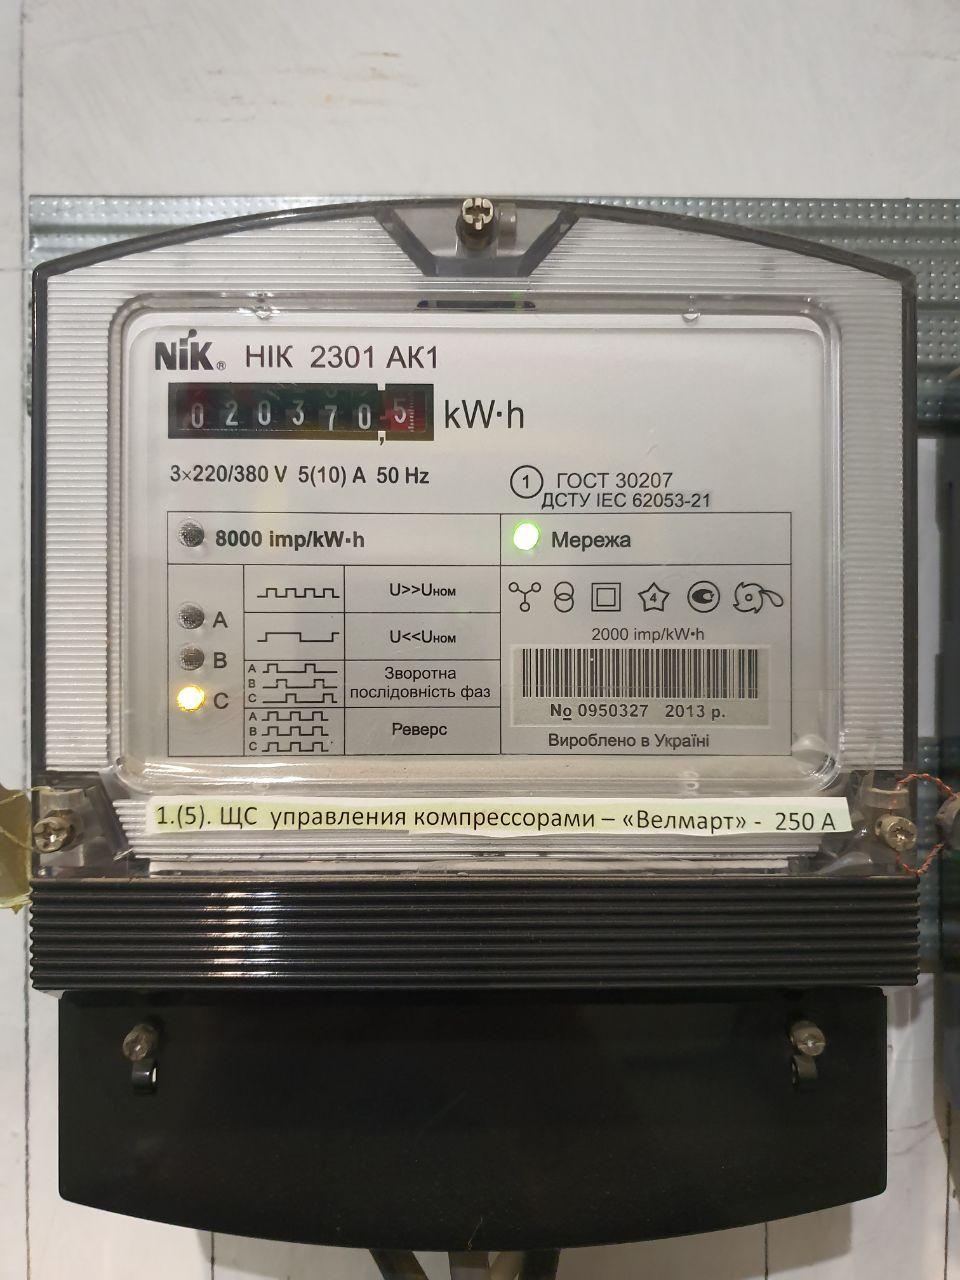0: (356, 402, 374, 432), (189, 400, 206, 429), (257, 398, 272, 426)
2: (223, 398, 241, 429)
3: (290, 397, 306, 427)
5: (392, 395, 410, 426)
7: (323, 403, 338, 433)
screen: (161, 376, 443, 451)
